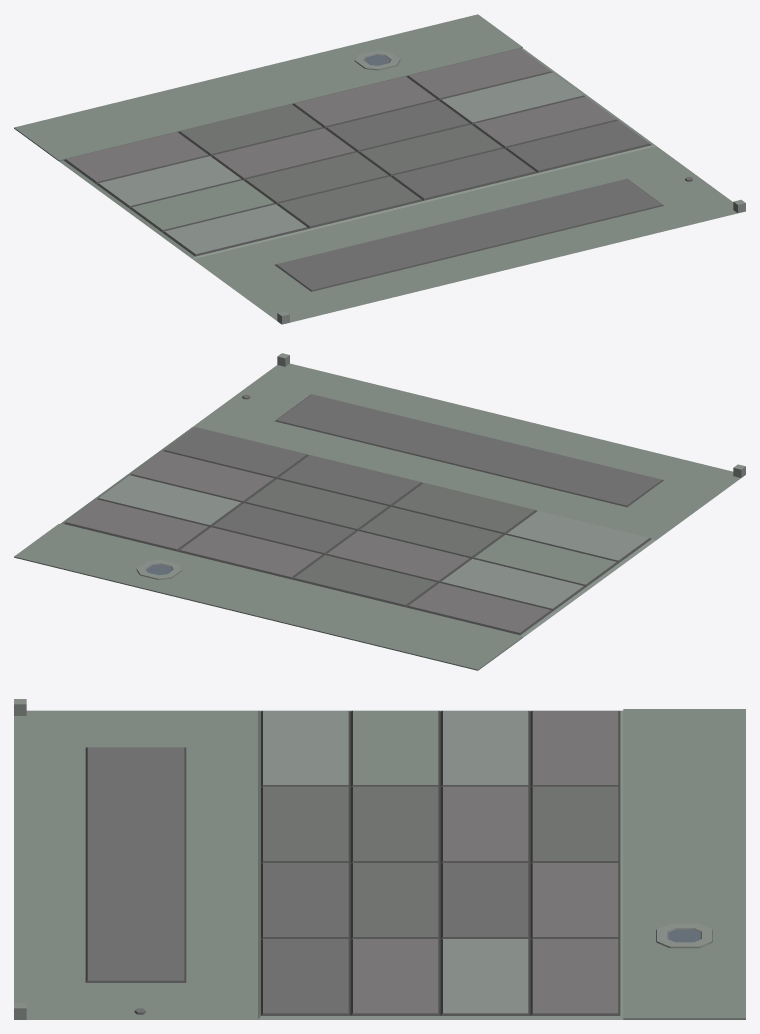
Rendered from EmptyFork_C.gltf.
3 views of the same model, one above another, from view 1: azimuth 30°, elevation 25°; view 2: azimuth 150°, elevation 25°; view 3: azimuth 270°, elevation 25° (orthographic). The views are drawn at different scales.
Parts seen in each view (by area): view 1: Scifi_Panel_02 Plaza014_group4.004; view 2: Scifi_Panel_02 Plaza014_group4.004; view 3: Scifi_Panel_02 Plaza014_group4.004.
Part boxes in pixels (x1,y1,x2,y2): Scifi_Panel_02 Plaza014_group4.004: (14,14,745,324); Scifi_Panel_02 Plaza014_group4.004: (14,353,745,670); Scifi_Panel_02 Plaza014_group4.004: (14,699,745,1019).
Bounding box in the file's own units: 10 × 0.1734 × 10.
1 material, 1 textured.
